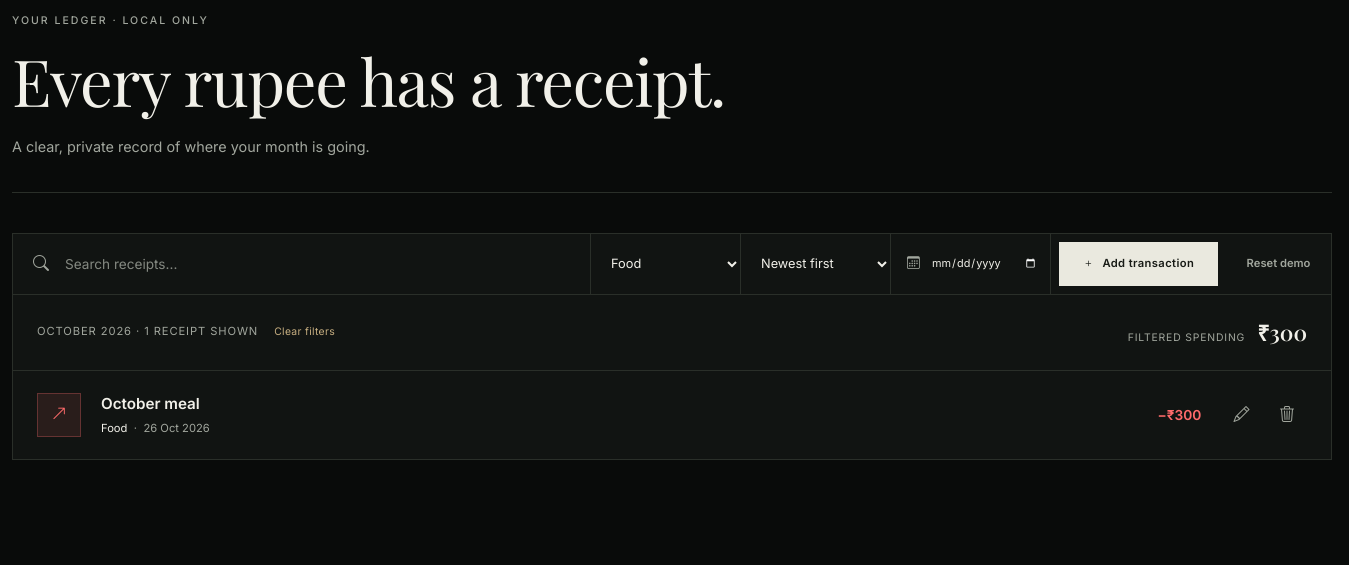
Test case: Audit fixes › filters month and category together and can clear both
Expected: the text "October meal" is shown, 101,394 -> 200,412
Expected: the text "March meal" is not shown
What coordinates should you click on to do the following:
click the button "Clear filters"
I would click on:
 (305, 332)
Its box is 274,324 -> 335,340.
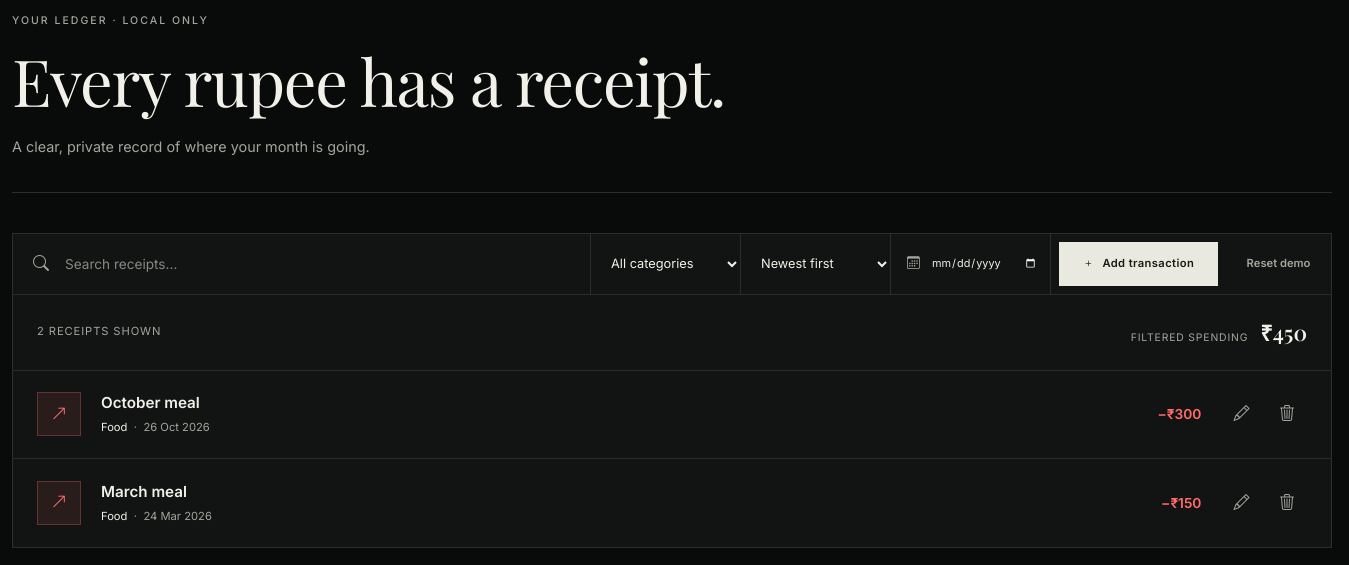
Expected: the text "March meal" is shown, 101,482 -> 187,500
